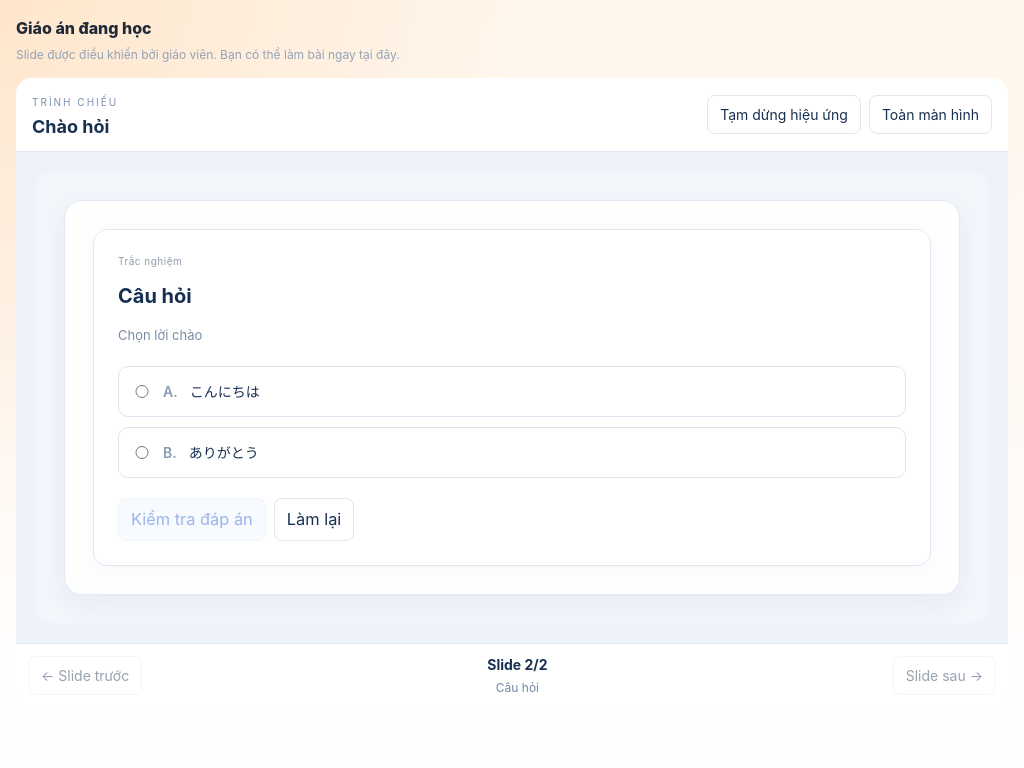
Test: theo slide giáo viên, làm quiz thật, giữ câu trả lời khi đổi slide và dừng
Later steps or results of the test are not shown.
Check: the button "Slide sau →" is disabled, box [893, 656, 996, 695]
Click the radio button labelled "A. こんにちは" at (142, 392), box [133, 385, 151, 398]
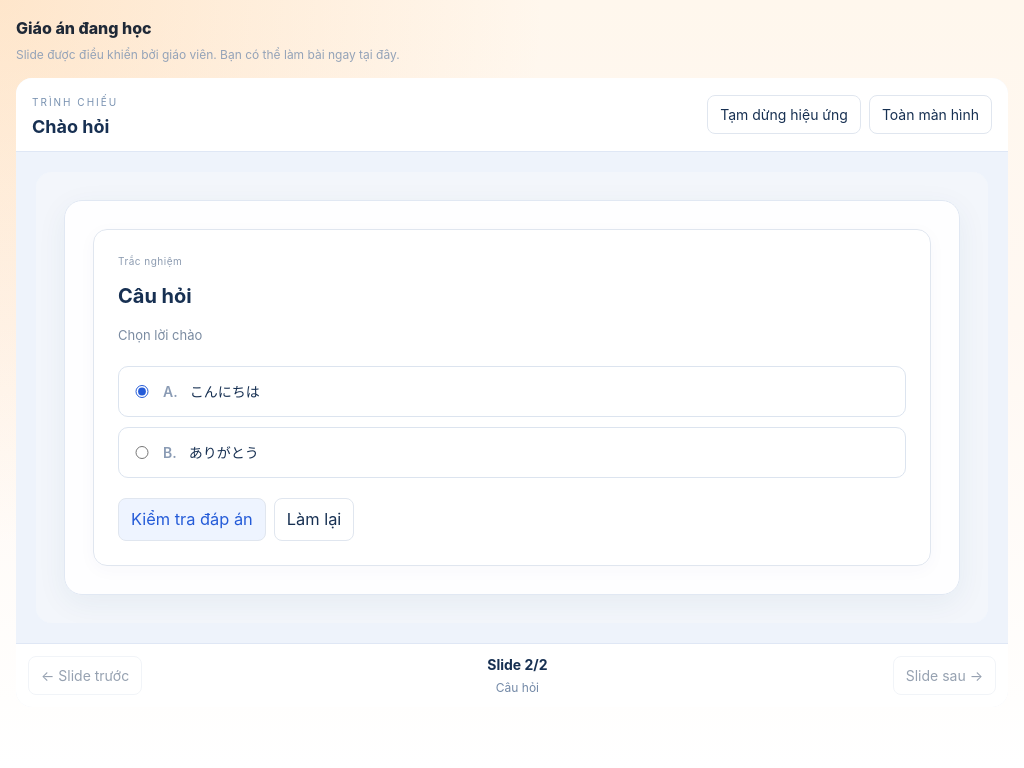
Click the button "Kiểm tra đáp án" at (192, 519), box [118, 498, 266, 541]
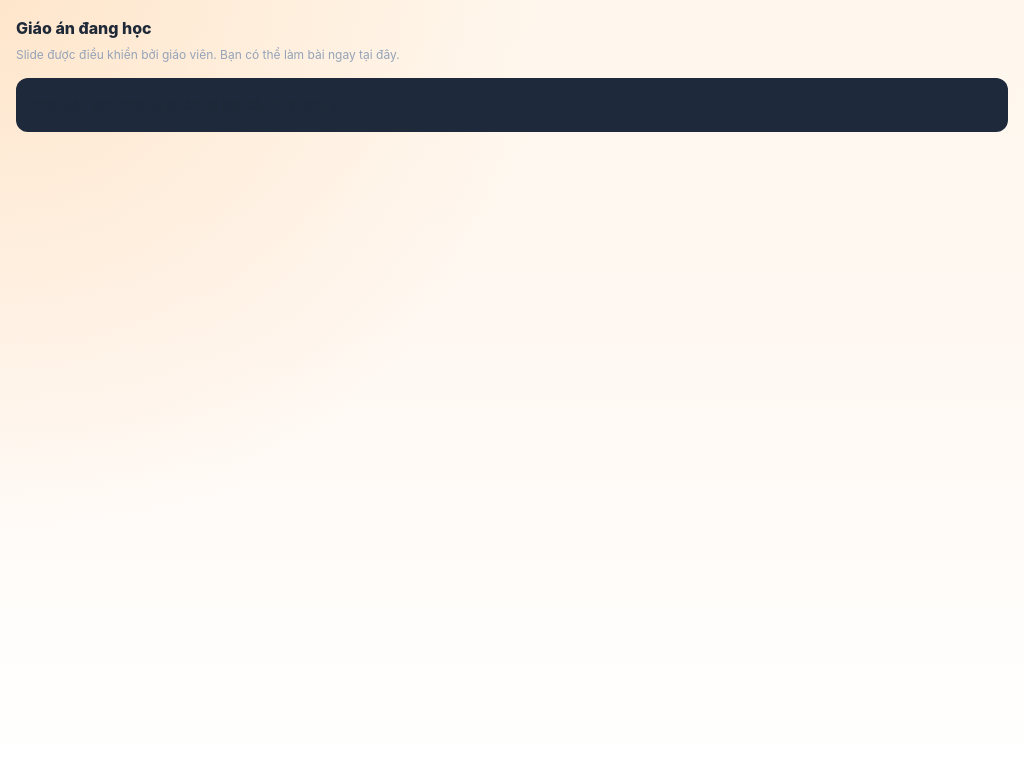
Check: the text "Chờ giáo viên chọn giáo án để bắt đầu trình chiếu." is shown, box [16, 78, 1008, 132]
